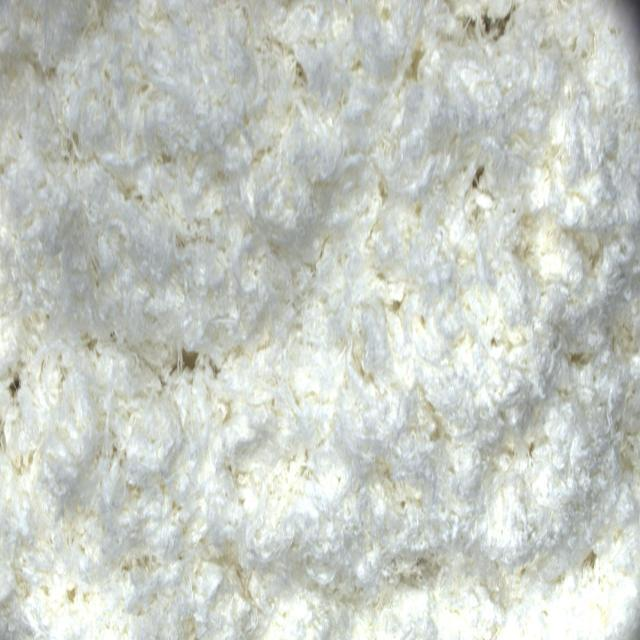dust: (458, 16, 519, 41), (173, 344, 206, 382), (8, 373, 25, 399)
